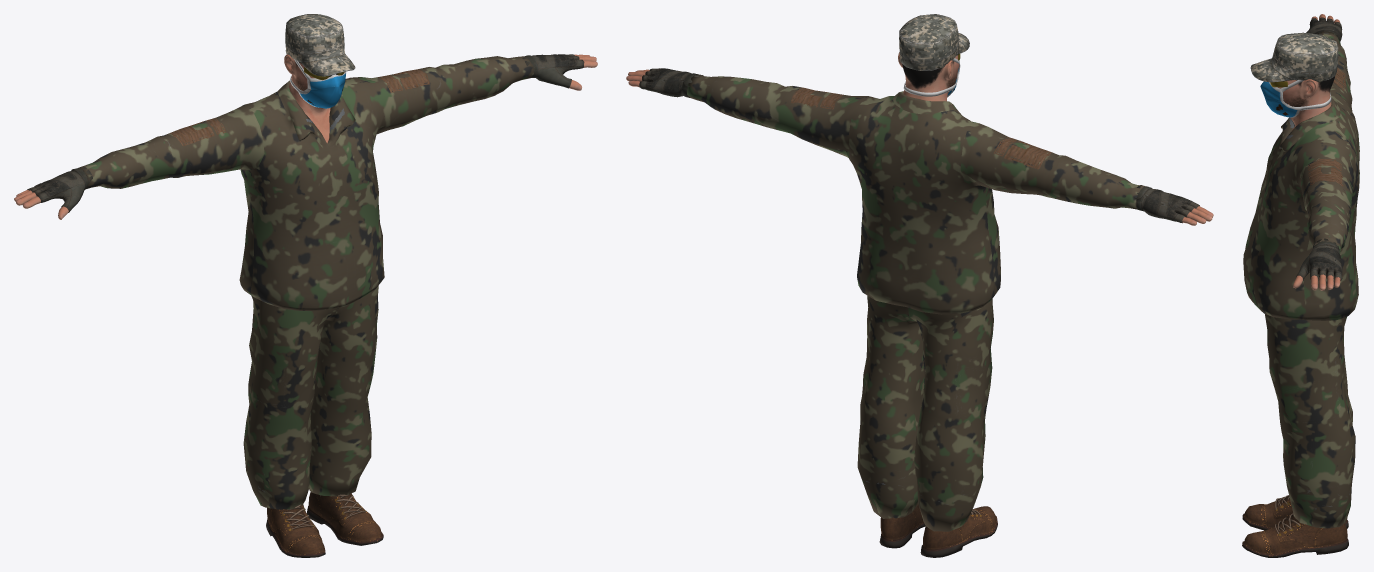
3 views of the same model, side by side, from view 1: azimuth 30°, elevation 25°; view 2: azimuth 150°, elevation 25°; view 3: azimuth 270°, elevation 25° (orthographic). The views are drawn at different scales.
Visible parts, largest first — view 1: Tops, Bottoms, Shoes, Hats, Gloves, Body, Masks; view 2: Tops, Bottoms, Shoes, Hats, Gloves, Body; view 3: Tops, Bottoms, Shoes, Hats, Body, Gloves, Masks.
Boxes of the visible parts, <box> form: Tops: <box>78,56,533,310</box>; Bottoms: <box>243,286,378,509</box>; Shoes: <box>266,492,383,557</box>; Hats: <box>285,14,355,76</box>; Gloves: <box>27,54,584,212</box>; Body: <box>14,54,597,219</box>; Masks: <box>290,59,345,108</box>; Tops: <box>687,74,1148,314</box>; Bottoms: <box>857,295,993,531</box>; Shoes: <box>879,504,997,557</box>; Hats: <box>899,14,969,70</box>; Gloves: <box>639,68,1199,223</box>; Body: <box>626,52,1213,225</box>; Tops: <box>1243,31,1359,320</box>; Bottoms: <box>1265,314,1355,528</box>; Shoes: <box>1242,495,1348,557</box>; Hats: <box>1250,32,1338,82</box>; Body: <box>1277,14,1340,290</box>; Gloves: <box>1296,17,1342,280</box>; Masks: <box>1260,80,1331,117</box>.
Bounding box in the file's own units: 213 × 180 × 38.42.
9 materials, 9 textured.
